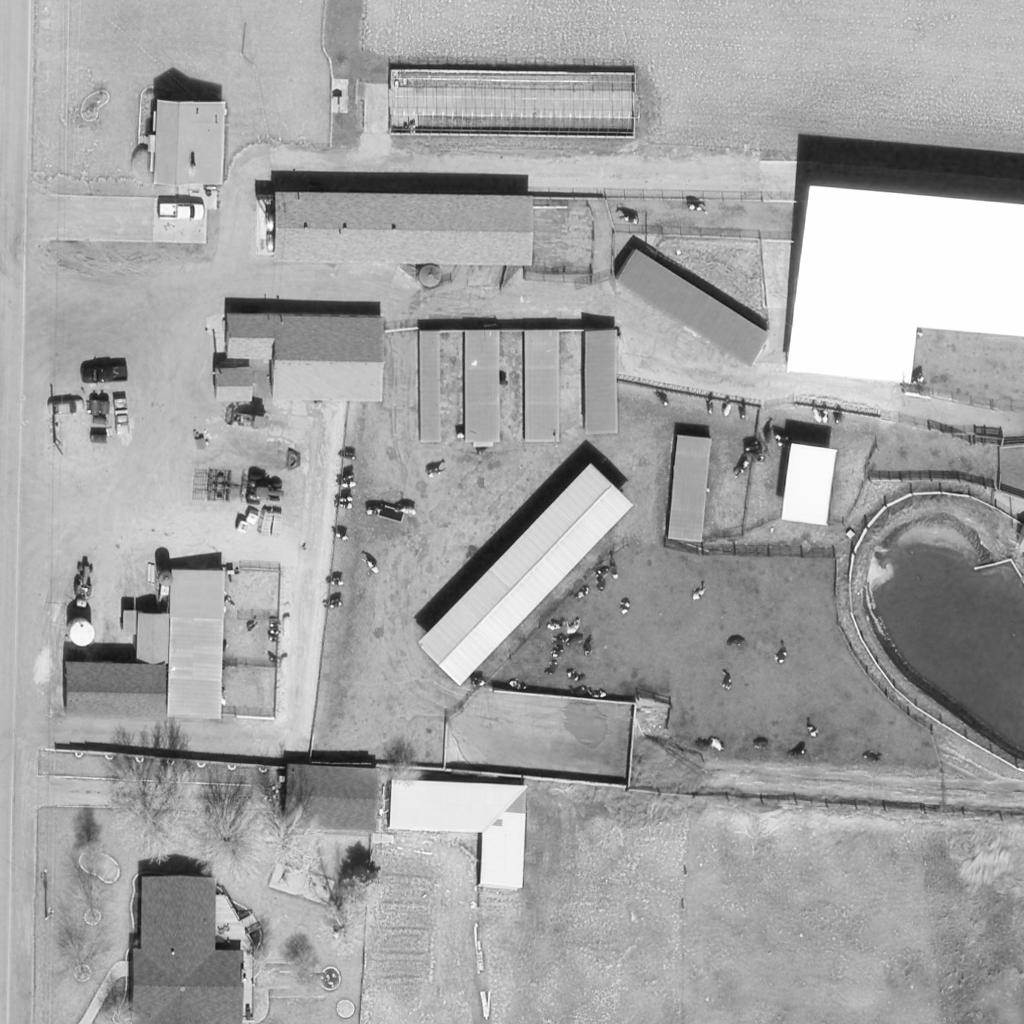vehicle: (241, 471, 287, 509), (71, 562, 97, 600), (158, 204, 206, 222), (81, 367, 127, 383), (113, 398, 129, 436), (48, 401, 84, 415)
